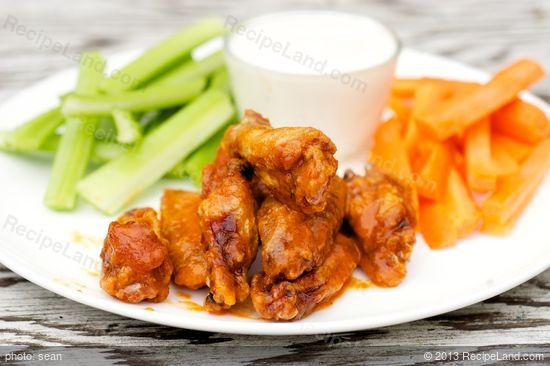background: (0, 4, 473, 184)
